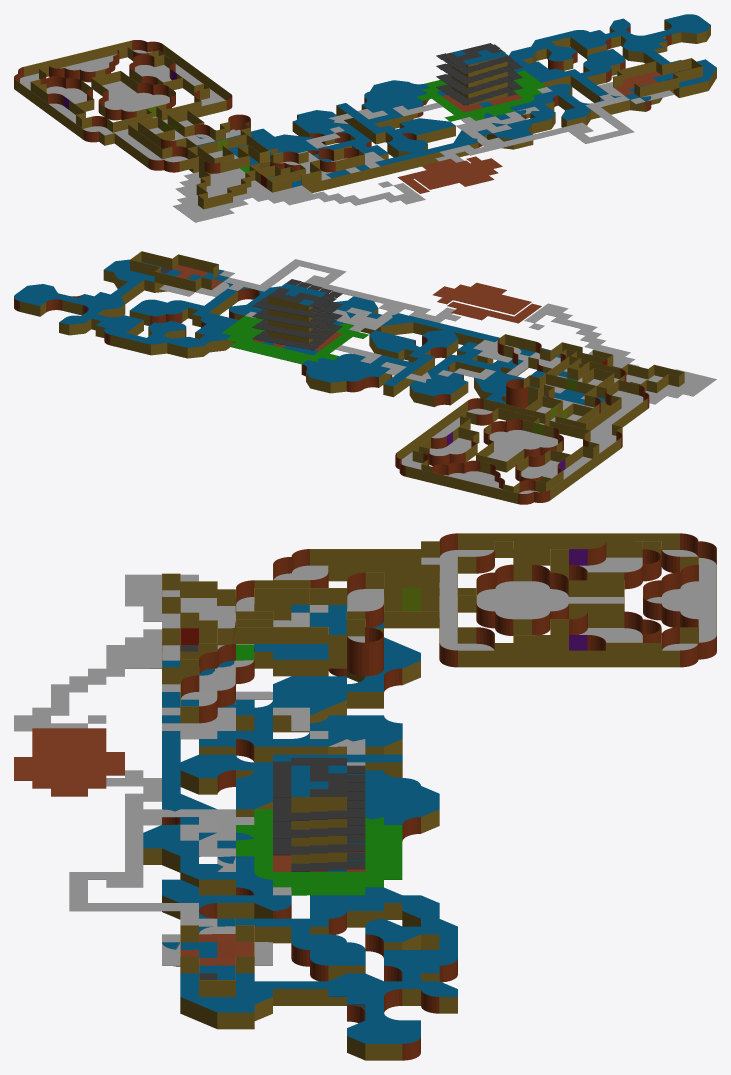
Rendered from testmap2 - Region 1-col.obj.
3 renders of one model, top to bottom at view 1: azimuth 30°, elevation 25°; view 2: azimuth 150°, elevation 25°; view 3: azimuth 270°, elevation 25°, orthographic. The views are drawn at different scales.
Visible parts, largest first — view 1: gc_export; view 2: gc_export; view 3: gc_export.
Boxes of the visible parts, box(x1,y1,x2,y2) form: gc_export: box(14, 14, 716, 222); gc_export: box(14, 251, 716, 504); gc_export: box(14, 533, 716, 1060).
Bounding box in the file's own units: 61 × 5 × 38.
